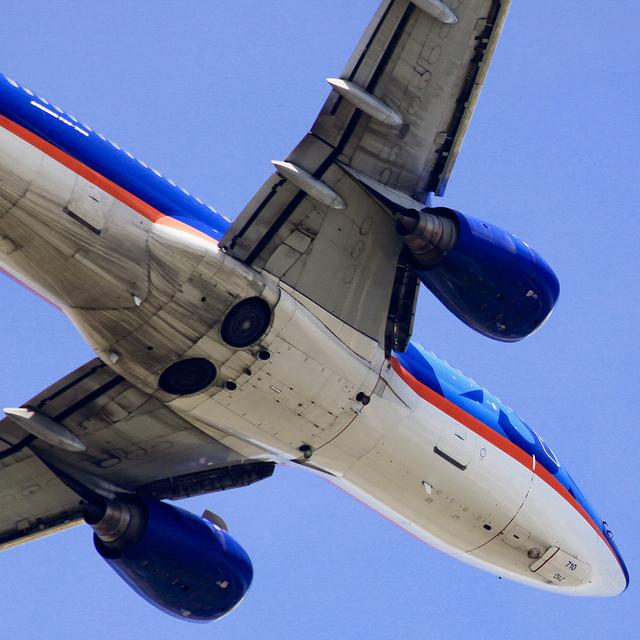airplane: (1, 0, 630, 628)
